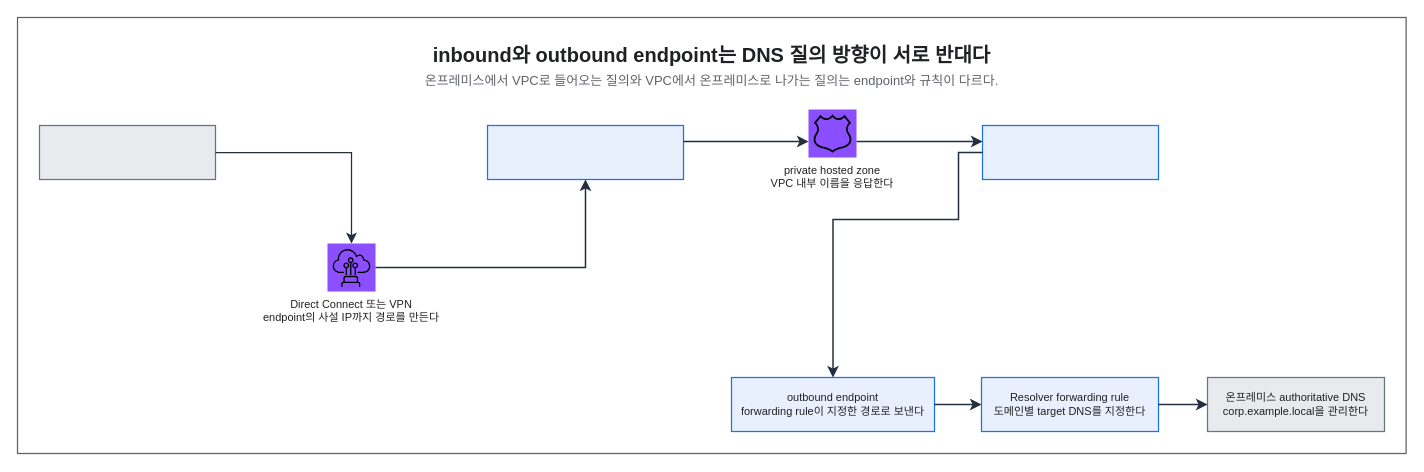
This 1424x472 diagram has some shape labels left out. Each missing label, with the centre of its shape:
"inbound endpoint 온프레미스 질의를 VPC Resolver로 받는다" goes at [585,152].
"VPC workload 온프레미스 이름도 조회할 수 있다" goes at [1070,152].
"온프레미스 DNS VPC 이름을 조회한다" goes at [127,152].
